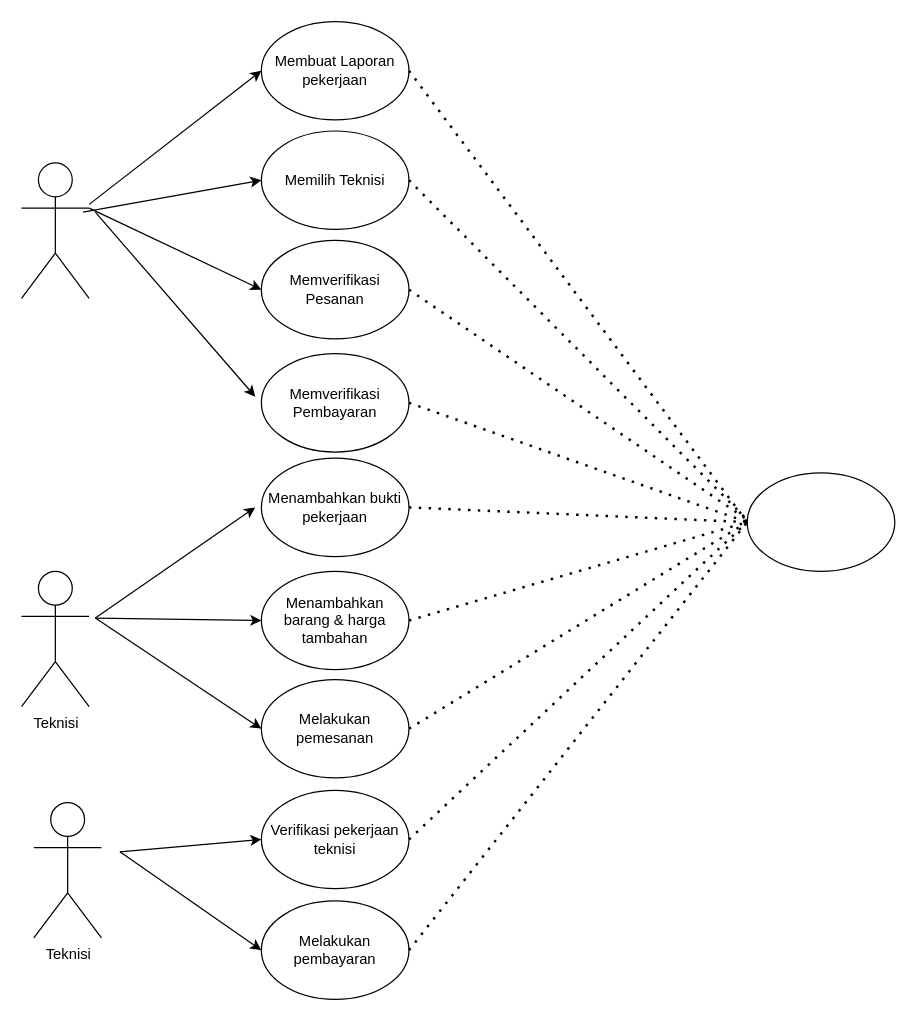
Image size: 916x1021. Some labels were removed from this diagram. Each missing label, with the centre of its shape:
Admin: the point at 54,230
Login: the point at 820,521
